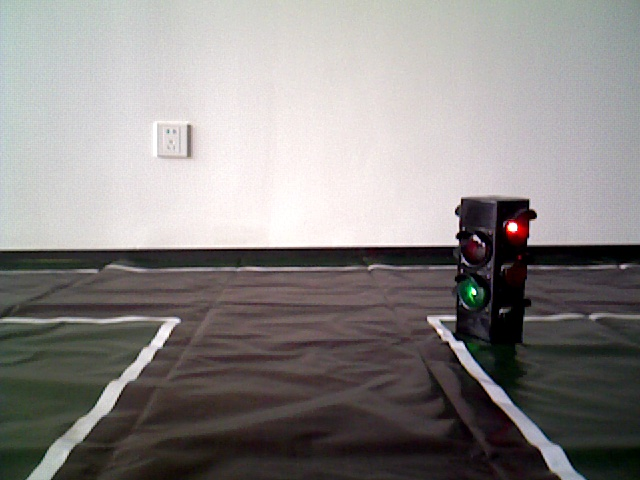red: (459, 201, 524, 344)
